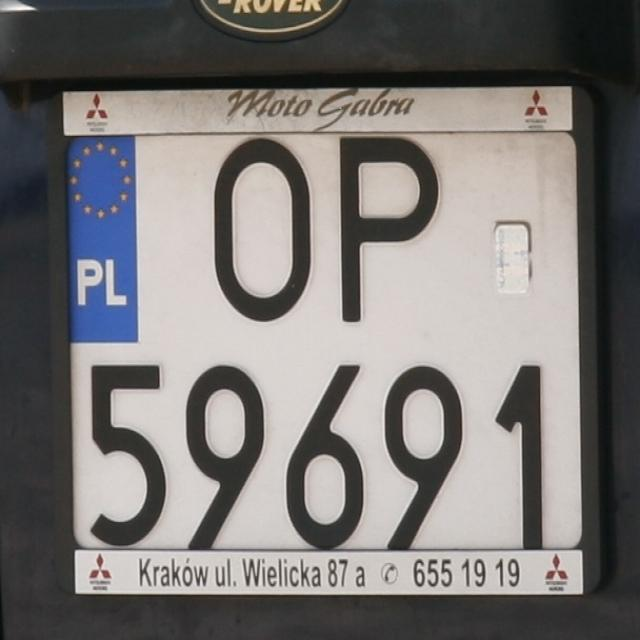pl_license_plate: (64, 132, 582, 549)
